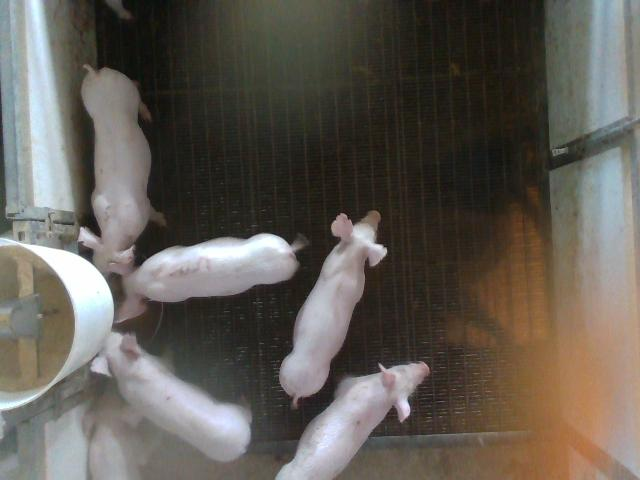pig-3: (110, 234, 304, 322)
